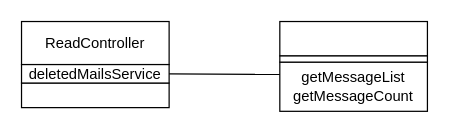
Image size: 449x133. Some labels were removed from this diagram. The box of each missing label's shape, as (x1, y1, x2, y2) in pixels:
mainMenu(): (20, 82, 169, 108)
Pop3Agent: (279, 20, 427, 56)
